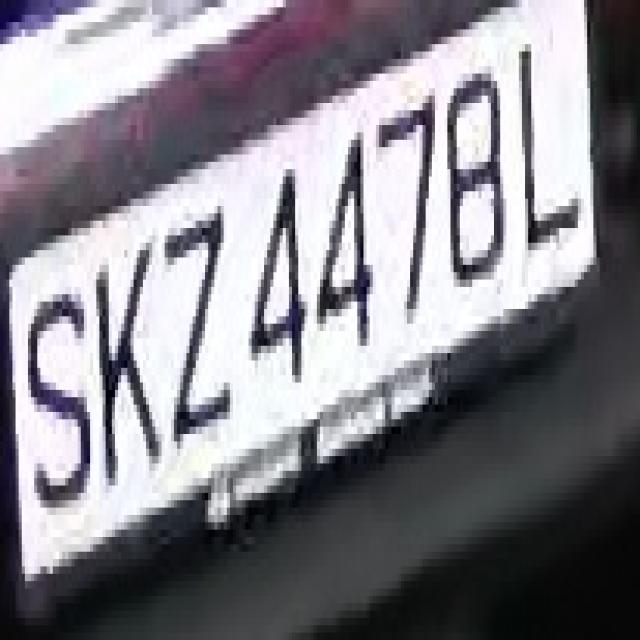4: (230, 154, 314, 404), (295, 125, 379, 368)
7: (370, 81, 438, 353)
8: (438, 58, 506, 302)
K: (93, 243, 165, 500)
L: (510, 22, 587, 280)
S: (28, 265, 99, 537)
Z: (156, 184, 240, 463)
